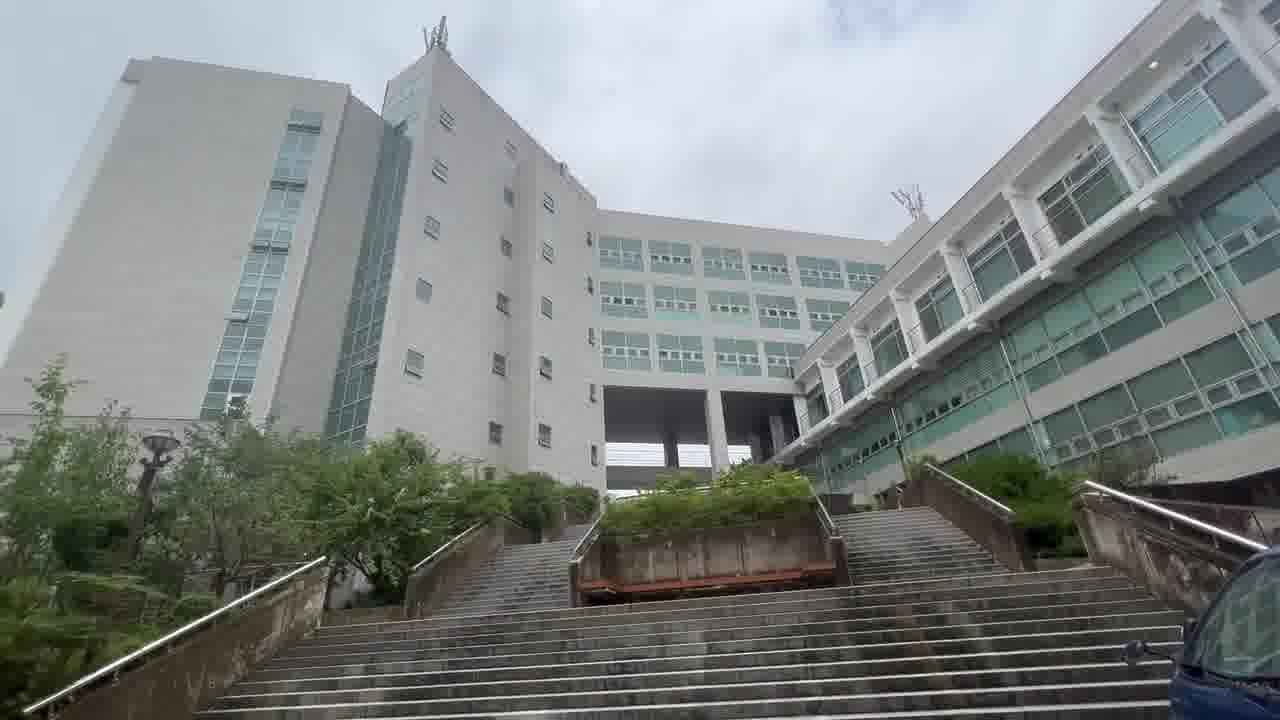building: (79, 79, 861, 452)
